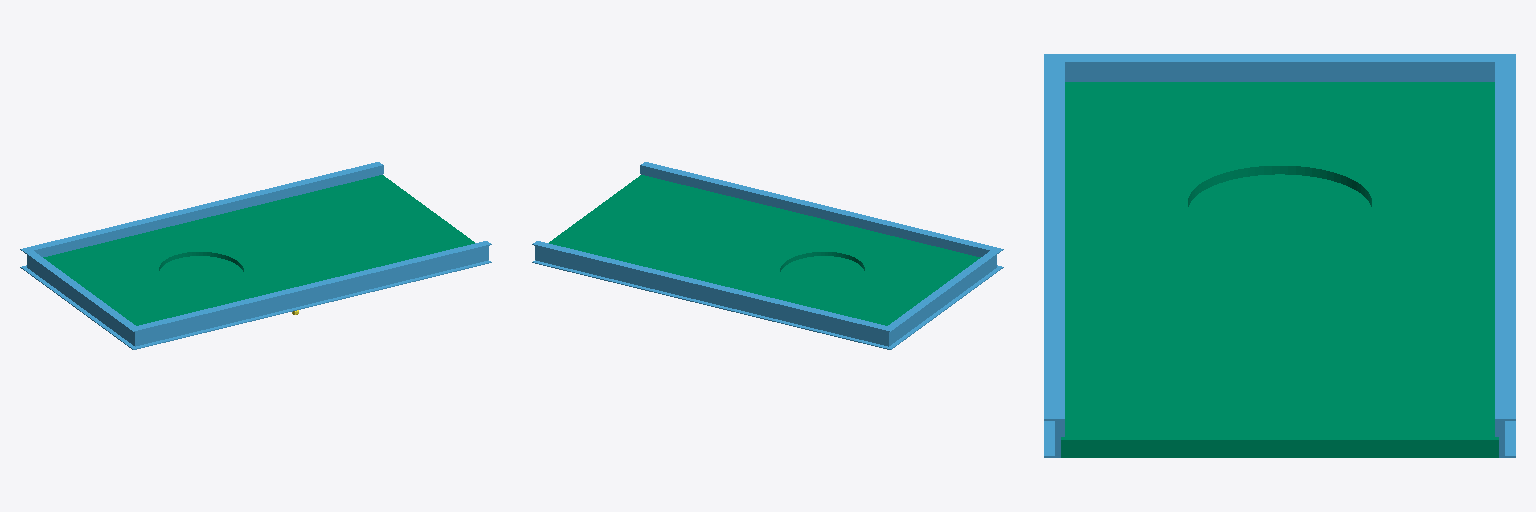
robot.urdf — right-pull-door:
<?xml version="1.0" ?>
<robot name="right-pull-door">
	<mujoco>
        <compiler meshdir="texture_stl" balanceinertia="true" discardvisual="false"/>
    </mujoco>
	<link name="base"/>
	<link name="link_0">
		<visual name="out-frame">
			<origin xyz="0 0 0"/>
			<geometry>
				<mesh filename="texture_stl/frame.stl" scale="0.7727926928934716 0.7727926928934716 0.7727926928934716"/>
			</geometry>
		</visual>
		<collision>
			<origin xyz="0 0 0"/>
			<geometry>
				<mesh filename="texture_stl/frame.stl" scale="0.7727926928934716 0.7727926928934716 0.7727926928934716"/>
			</geometry>
		</collision>
	</link>
	<joint name="joint_0" type="fixed">
		<origin rpy="1.570796326794897 0 -1.570796326794897" xyz="0 0 0"/>
		<child link="link_0"/>
		<parent link="base"/>
	</joint>
	<link name="link_1">
		<visual name="surf-board">
			<origin xyz="0.43107872977436495 -0.8212555453850839 0"/>
			<geometry>
				<mesh filename="texture_stl/board.stl" scale="0.7727926928934716 0.7727926928934716 0.7727926928934716"/>
			</geometry>
		</visual>
		<collision>
			<origin xyz="0.43107872977436495 -0.8212555453850839 0"/>
			<geometry>
				<mesh filename="texture_stl/board.stl" scale="0.7727926928934716 0.7727926928934716 0.7727926928934716"/>
			</geometry>
		</collision>
	</link>
	<joint name="joint_1" type="revolute">
		<origin xyz="-0.43107872977436495 0.8212555453850839 0"/>
		<axis xyz="0 -1 0"/>
		<child link="link_1"/>
		<parent link="link_0"/>
		<limit lower="0" upper="1.5079644737231006"/>
	</joint>
	<link name="link_2">
		<visual name="handle">
			<origin xyz="0 0 0"/>
			<geometry>
				<mesh filename="texture_stl/9960006.stl" scale="2.168468561311864 2.168468561311864 2.168468561311864"/>
			</geometry>
		</visual>
		<collision>
			<origin xyz="0 0 0"/>
			<geometry>
				<mesh filename="texture_stl/9960006.stl" scale="2.168468561311864 2.168468561311864 2.168468561311864"/>
			</geometry>
		</collision>
	</link>
	<joint name="joint_2" type="revolute">
		<origin xyz="0.7828395534710215 -0.8695793994499799 0.015916213578276408"/>
		<child link="link_2"/>
		<parent link="link_1"/>
		<axis xyz="0 0 1"/>
		<limit lower="0" upper="1.5079644737231006"/>
	</joint>
</robot>

--- Render facts (derived) ---
3 views of the same robot in one strip: view 1: azimuth 30°, elevation 25°; view 2: azimuth 150°, elevation 25°; view 3: azimuth 270°, elevation 25° (orthographic).
Robot: right-pull-door — 4 links, 3 joints (2 revolute, 1 fixed); root link base; default pose: all joints at 0.
Links seen in each view (by area): view 1: link_1, link_0; view 2: link_1, link_0; view 3: link_1, link_0.
Boxes of the visible links, x1,y1,x2,y2 form: link_1: (43,175,474,325); link_0: (20,162,491,349); link_1: (549,175,980,325); link_0: (532,162,1003,349); link_1: (1061,82,1498,457); link_0: (1044,54,1515,457).
Bounding box of the posed robot: 1.7 × 0.9274 × 0.1683 m (x, y, z).
Meshes: 3 distinct files referenced, 3 mesh visuals loaded (3 binary STL).
